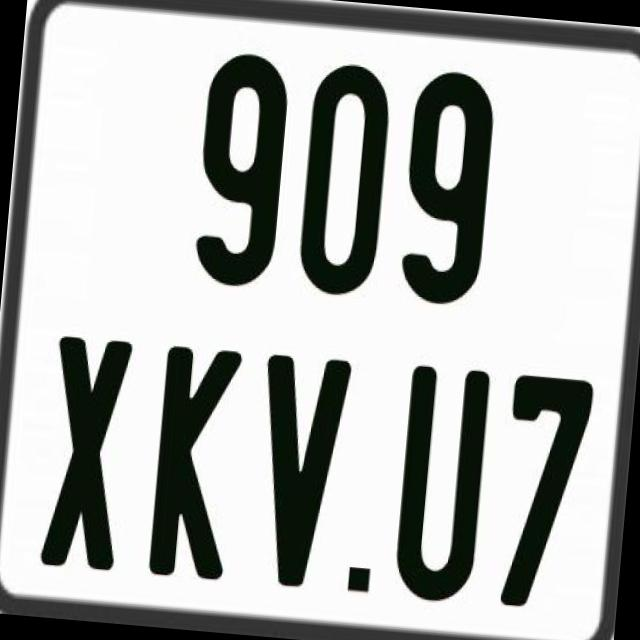0: (294, 56, 394, 299)
7: (494, 370, 594, 612)
9: (395, 68, 501, 308), (191, 49, 294, 288)
K: (146, 343, 242, 584)
U: (391, 364, 488, 608)
V: (246, 352, 350, 592)
X: (38, 336, 130, 572)
